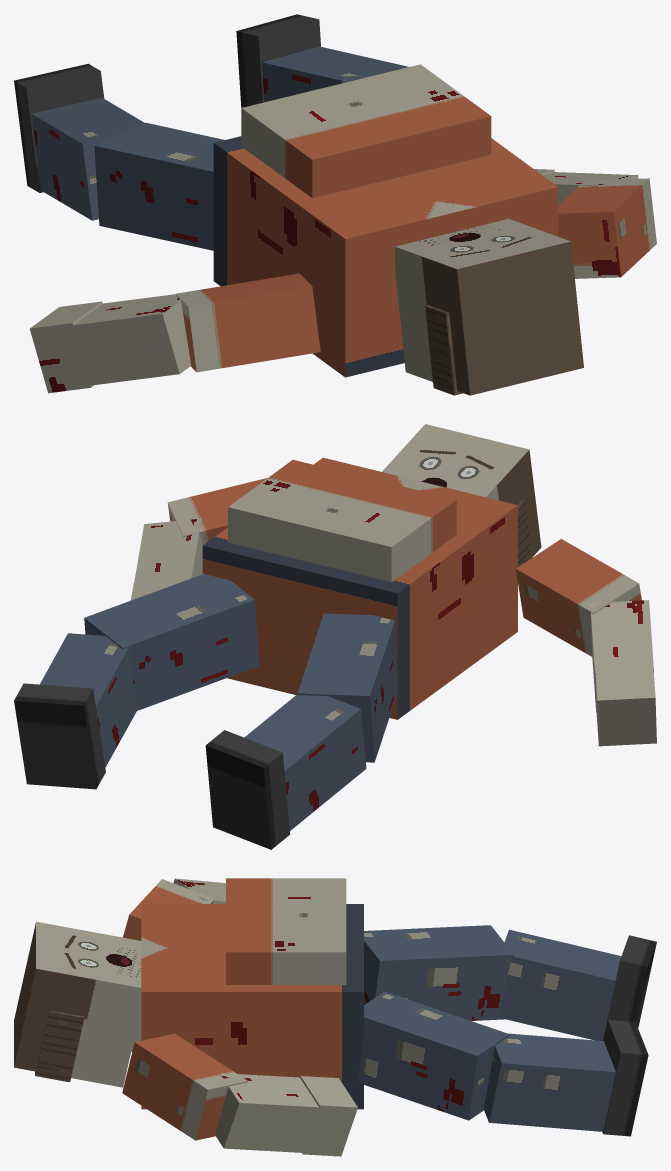
Rendered from pseudo_dormant_mon_zombie_fat.glb.
The picture shows the model from 3 angles, top to bottom: view 1: azimuth 30°, elevation 25°; view 2: azimuth 150°, elevation 25°; view 3: azimuth 270°, elevation 25°; orthographic projection. The views are drawn at different scales.
Visible parts, largest first — view 1: block_torso, block_head, block_belly, block_thigh.L, block_upper_arm.L, block_forearm.L, block_upper_arm.R, block_shin.L, block_foot.L, block_shin.R, block_foot.R, block_hand.L (+3 smaller); view 2: block_torso, block_belly, block_thigh.R, block_shin.L, block_thigh.L, block_head, block_foot.R, block_upper_arm.L, block_foot.L, block_shin.R, block_hand.L, block_forearm.L (+3 smaller); view 3: block_torso, block_head, block_belly, block_thigh.R, block_thigh.L, block_shin.R, block_shin.L, block_upper_arm.R, block_forearm.R, block_foot.R, block_hand.R, block_foot.L (+4 smaller).
Boxes of the visible parts, x1=… form: block_torso: x1=213, y1=136, x2=558, y2=377; block_head: x1=395, y1=219, x2=583, y2=395; block_belly: x1=241, y1=64, x2=491, y2=198; block_thigh.L: x1=94, y1=122, x2=224, y2=250; block_upper_arm.L: x1=175, y1=273, x2=320, y2=372; block_forearm.L: x1=73, y1=292, x2=192, y2=385; block_upper_arm.R: x1=558, y1=178, x2=656, y2=278; block_shin.L: x1=31, y1=98, x2=144, y2=220; block_foot.L: x1=14, y1=63, x2=104, y2=192; block_shin.R: x1=262, y1=46, x2=408, y2=102; block_foot.R: x1=236, y1=14, x2=320, y2=107; block_hand.L: x1=30, y1=301, x2=102, y2=393; block_torso: x1=202, y1=457, x2=517, y2=719; block_belly: x1=228, y1=460, x2=456, y2=582; block_thigh.R: x1=84, y1=574, x2=259, y2=710; block_shin.L: x1=244, y1=694, x2=366, y2=830; block_thigh.L: x1=297, y1=613, x2=397, y2=762; block_head: x1=382, y1=424, x2=541, y2=556; block_foot.R: x1=14, y1=683, x2=105, y2=789; block_upper_arm.L: x1=516, y1=539, x2=641, y2=656; block_foot.L: x1=205, y1=730, x2=290, y2=849; block_shin.R: x1=39, y1=633, x2=138, y2=767; block_hand.L: x1=595, y1=665, x2=656, y2=746; block_forearm.L: x1=590, y1=600, x2=653, y2=712; block_torso: x1=141, y1=904, x2=363, y2=1109; block_head: x1=14, y1=921, x2=141, y2=1087; block_belly: x1=226, y1=878, x2=346, y2=984; block_thigh.R: x1=357, y1=991, x2=509, y2=1120; block_thigh.L: x1=364, y1=925, x2=513, y2=1020; block_shin.R: x1=483, y1=1033, x2=615, y2=1131; block_shin.L: x1=498, y1=929, x2=621, y2=1040; block_upper_arm.R: x1=122, y1=1033, x2=247, y2=1140; block_forearm.R: x1=215, y1=1073, x2=319, y2=1152; block_foot.R: x1=602, y1=1020, x2=648, y2=1136; block_hand.R: x1=300, y1=1076, x2=357, y2=1156; block_foot.L: x1=602, y1=935, x2=656, y2=1040.
Bounding box in the file's own units: 1.59 × 0.5053 × 1.79.
Materials: 1 (1 with a texture image).
